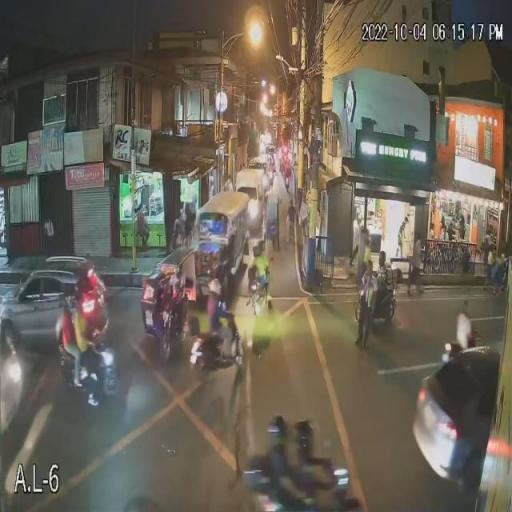helmet: (267, 414, 285, 436), (294, 415, 312, 436), (207, 277, 223, 298), (63, 294, 80, 312), (378, 250, 388, 268), (252, 245, 263, 257)
motorcycle: (244, 459, 350, 512), (58, 331, 120, 407), (189, 318, 243, 372), (361, 285, 397, 331), (438, 335, 488, 362), (248, 282, 274, 330)
rider: (291, 415, 336, 508), (261, 414, 300, 510), (57, 292, 96, 387), (202, 276, 234, 350), (355, 260, 380, 349), (454, 299, 480, 353), (251, 243, 271, 307)
